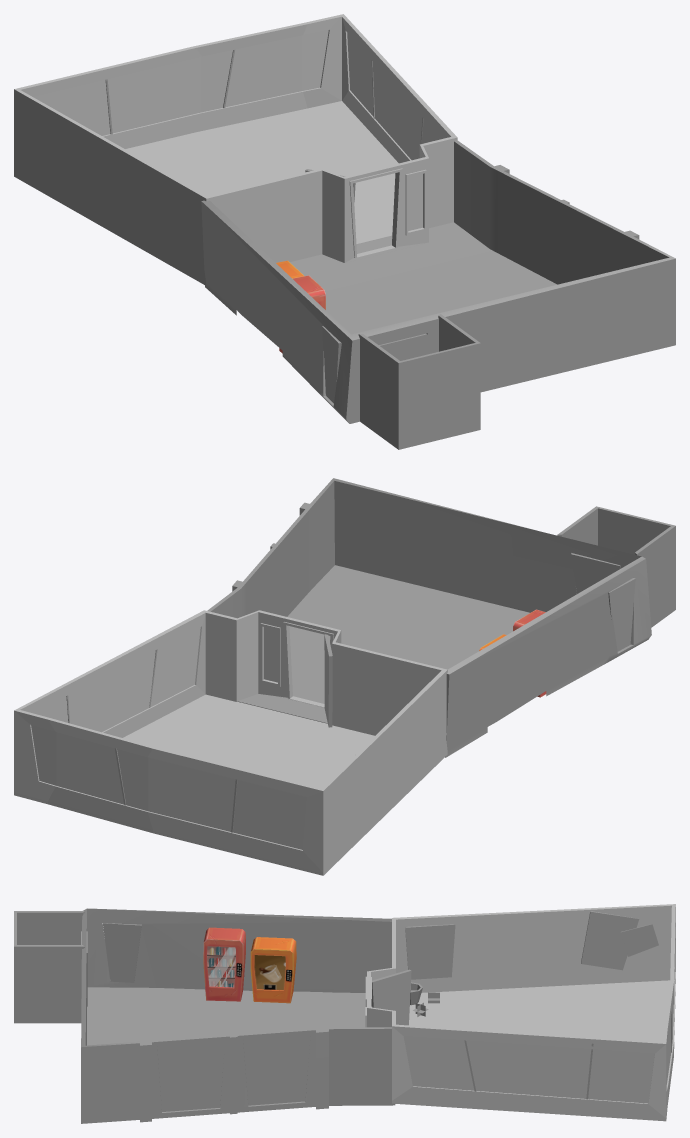
Rendered from rooms_ground.fbx.
3 renders of one model, top to bottom at view 1: azimuth 30°, elevation 25°; view 2: azimuth 150°, elevation 25°; view 3: azimuth 270°, elevation 25°, orthographic. The views are drawn at different scales.
Parts seen in each view (by area): view 1: classroom_walls, hall_walls, classroom_ground, hall_ground, toilet_walls, pCube15, toilets_door; view 2: classroom_walls, hall_walls, hall_ground, classroom_ground, toilet_walls, pCube15, toilets_door, classroom_door; view 3: hall_walls, classroom_walls, hall_ground, classroom_ground, toilet_walls, snack_dispenser1, snack_dispenser, poster, pCube28, pCube15, classroom_door, pCube29.
Boxes of the visible parts, left/top/right/bottom form: classroom_walls: left=14, top=14, right=457, bottom=285; hall_walls: left=201, top=140, right=675, bottom=423; classroom_ground: left=125, top=101, right=398, bottom=243; hall_ground: left=290, top=222, right=556, bottom=334; toilet_walls: left=358, top=314, right=480, bottom=449; pCube15: left=322, top=326, right=341, bottom=403; toilets_door: left=379, top=333, right=426, bottom=360; classroom_walls: left=14, top=610, right=447, bottom=875; hall_walls: left=207, top=478, right=651, bottom=757; hall_ground: left=238, top=565, right=529, bottom=722; classroom_ground: left=123, top=694, right=374, bottom=788; toilet_walls: left=557, top=506, right=675, bottom=627; pCube15: left=608, top=578, right=635, bottom=651; toilets_door: left=571, top=553, right=620, bottom=593; classroom_door: left=324, top=634, right=332, bottom=727; hall_walls: left=81, top=908, right=395, bottom=1123; classroom_walls: left=365, top=904, right=675, bottom=1121; hall_ground: left=87, top=987, right=365, bottom=1045; classroom_ground: left=409, top=980, right=670, bottom=1042; toilet_walls: left=14, top=911, right=84, bottom=1023; snack_dispenser1: left=203, top=927, right=245, bottom=1001; snack_dispenser: left=250, top=937, right=296, bottom=1003; poster: left=405, top=924, right=455, bottom=979; pCube28: left=581, top=911, right=639, bottom=970; pCube15: left=103, top=923, right=141, bottom=982; classroom_door: left=372, top=969, right=411, bottom=1025; pCube29: left=620, top=924, right=658, bottom=956.
Size of the model in its own units: 2803 by 729 by 5520.
